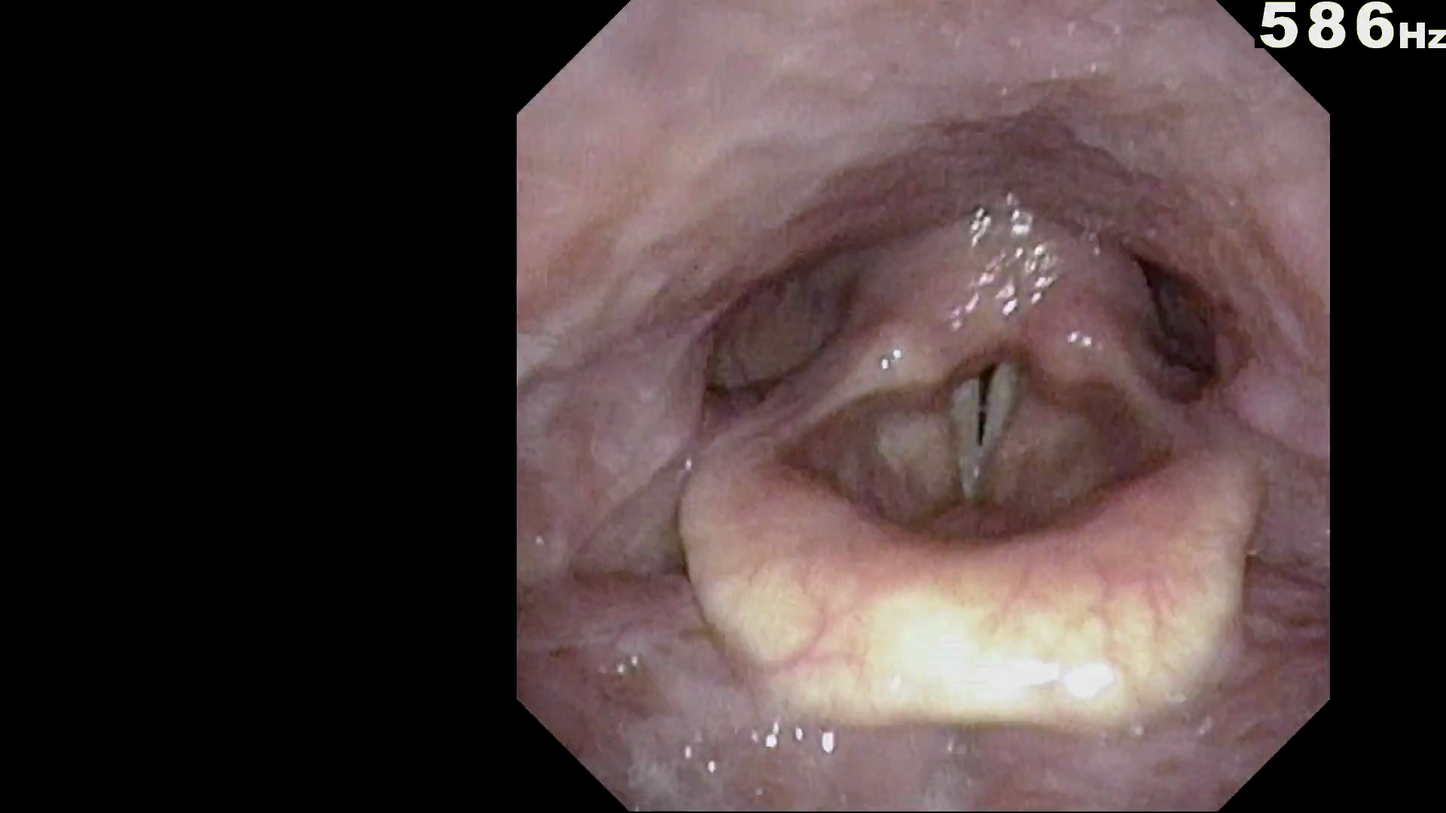epiglottis: (715, 434, 1218, 637)
